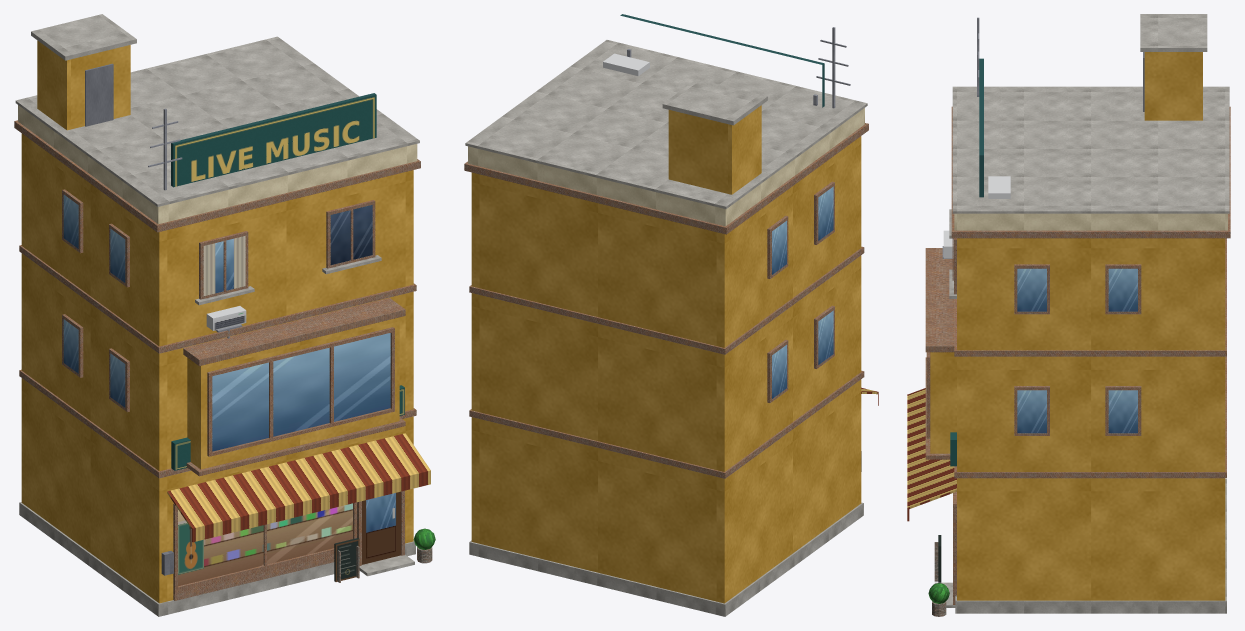
File: b4_music_store.glb
3 views of the same model, side by side, from view 1: azimuth 30°, elevation 25°; view 2: azimuth 150°, elevation 25°; view 3: azimuth 270°, elevation 25° (orthographic). The views are drawn at different scales.
Visible parts, largest first — view 1: wall, concrete, solid_#5a3a22, glass, awning, topsign, parapet, glass_shop, door, glass_curtain, glass_dark, doormetal (+5 smaller); view 2: wall, concrete, solid_#5a3a22, parapet, glass, topsign, ac, metal; view 3: wall, concrete, solid_#5a3a22, glass, parapet, awning, ac, topsign.
Part boxes in pixels (box(x1,y1,x2,y2)): wall: box(21, 40, 413, 603); concrete: box(15, 14, 419, 616); solid_#5a3a22: box(14, 120, 420, 600); glass: box(63, 194, 390, 451); awning: box(167, 433, 430, 542); topsign: box(171, 93, 376, 187); parapet: box(18, 105, 417, 224); glass_shop: box(178, 503, 352, 586); door: box(362, 491, 400, 564); glass_curtain: box(203, 236, 245, 295); glass_dark: box(330, 205, 372, 264); doormetal: box(85, 63, 173, 575); wall: box(471, 105, 861, 603); concrete: box(465, 40, 867, 616); solid_#5a3a22: box(464, 123, 868, 478); parapet: box(468, 108, 864, 226); glass: box(772, 186, 833, 398); topsign: box(620, 14, 824, 107); ac: box(603, 53, 649, 76); metal: box(627, 27, 850, 108); wall: box(930, 52, 1225, 600); concrete: box(934, 14, 1229, 613); solid_#5a3a22: box(925, 106, 1230, 604); glass: box(1017, 268, 1137, 433); parapet: box(954, 213, 1227, 230); awning: box(907, 388, 956, 521); ac: box(943, 176, 1010, 258); topsign: box(979, 58, 983, 197).
Size of the model in its own units: 6.81 by 11.9 by 7.23.
21 materials, 21 textured.
